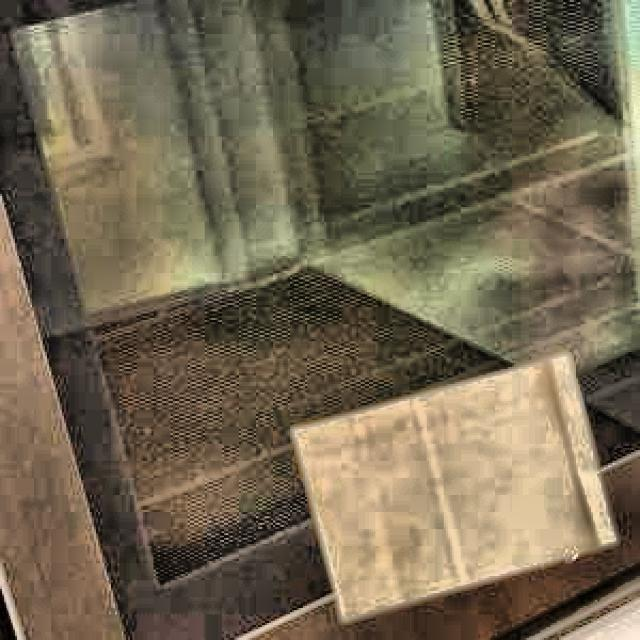Paper-bag: (276, 334, 625, 618)
